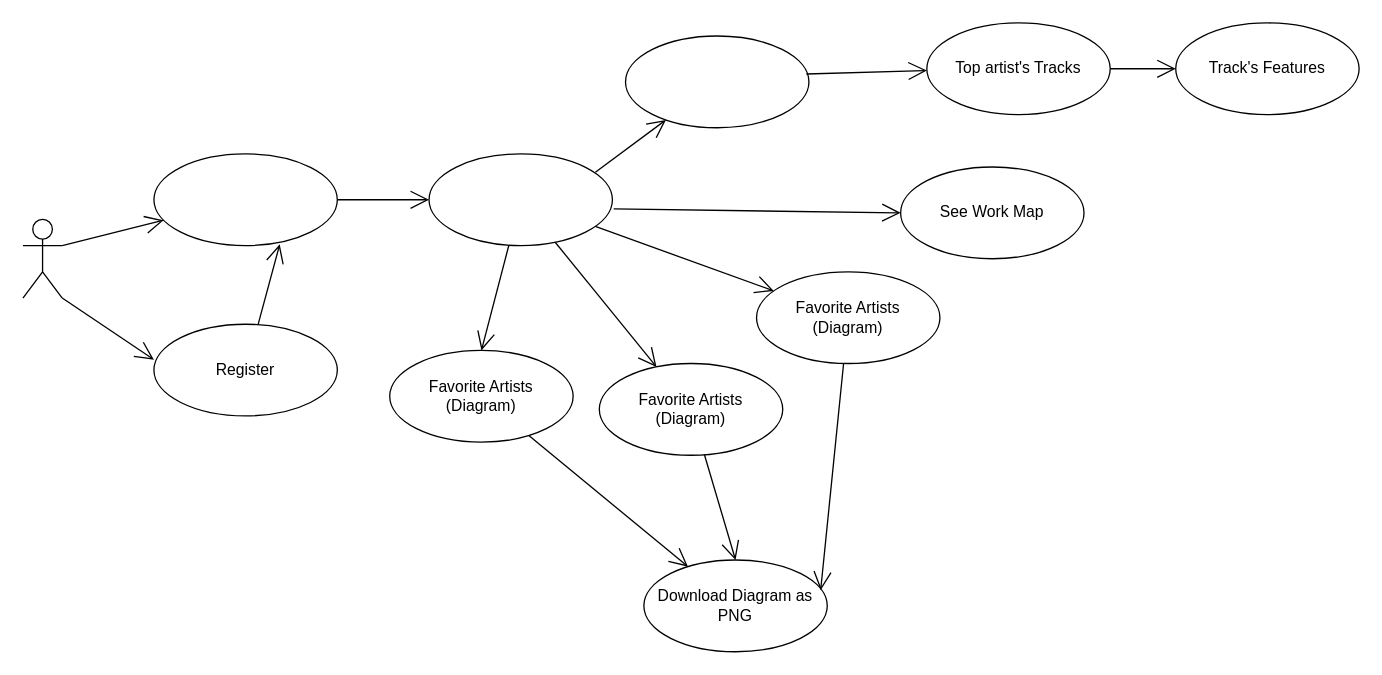
Some shapes in this 1382 by 675 pixel diagram are drawn without their labels. The shapes that lost their labels are listed below. From the top down, each one's centre as x and y in pixels, then its label:
point (716, 81): Favorite Artists (Listed)
point (245, 199): Login
point (520, 199): Connect with Spotify
point (42, 258): Actor
